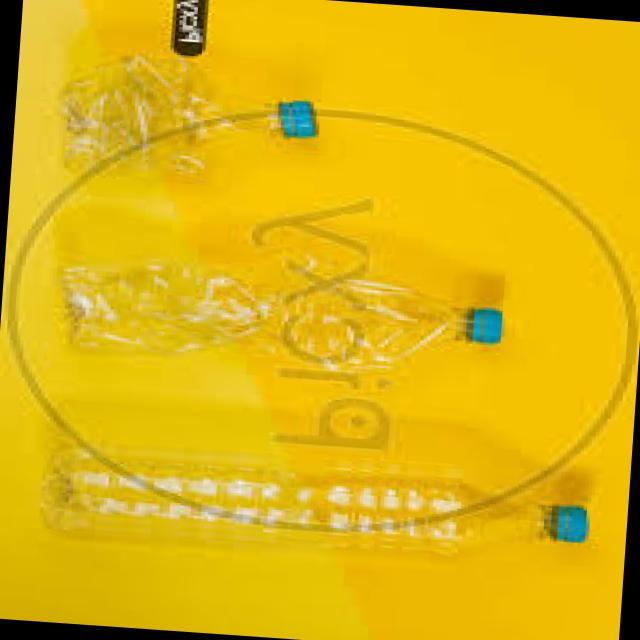defected: (39, 236, 512, 394), (54, 43, 338, 202)
good: (22, 428, 602, 582)
